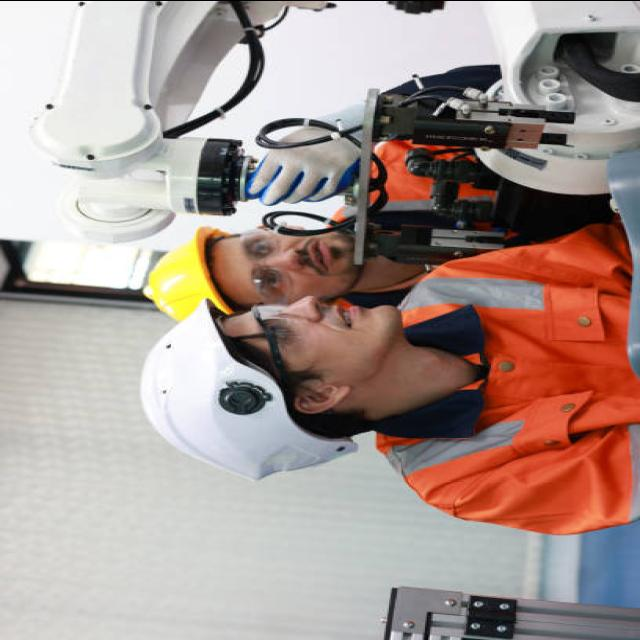Robotic-arm: (22, 2, 350, 236)
